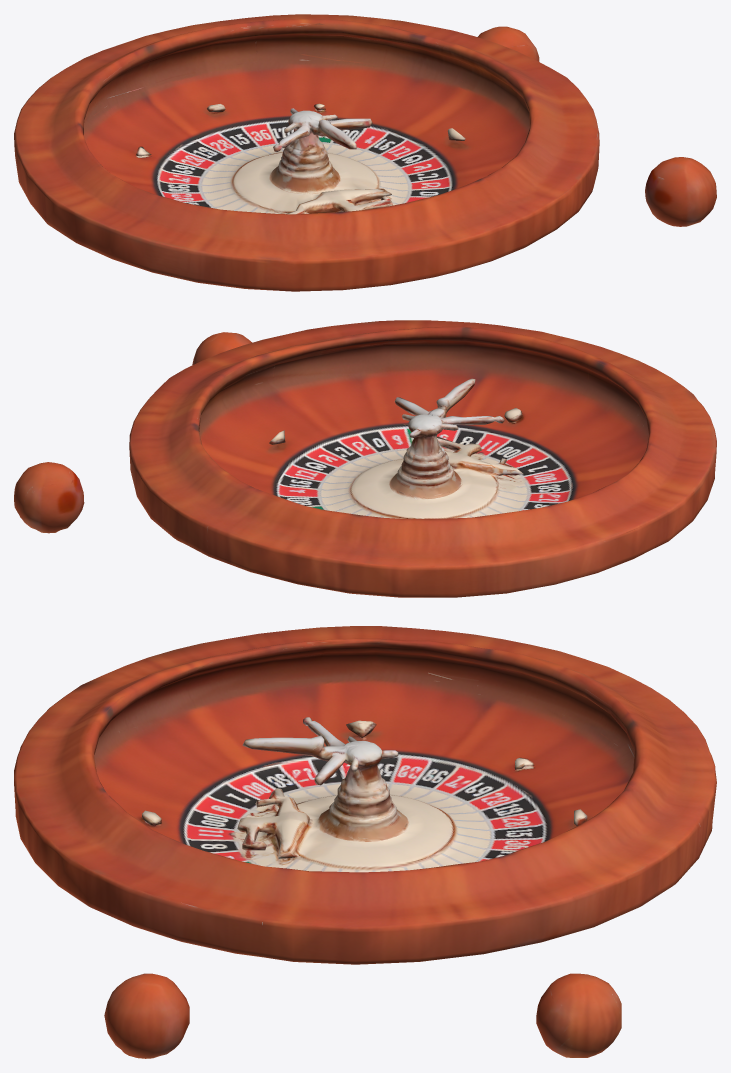
The model's file is Roulette_Wheel_4InchesTall_0215214811_texture.glb.
The picture shows the model from 3 angles, top to bottom: view 1: azimuth 30°, elevation 25°; view 2: azimuth 150°, elevation 25°; view 3: azimuth 270°, elevation 25°; orthographic projection. The views are drawn at different scales.
Visible parts, largest first — view 1: Mesh_0.001; view 2: Mesh_0.001; view 3: Mesh_0.001.
Boxes of the visible parts, box(x1,y1,x2,y2) form: Mesh_0.001: box(14, 14, 716, 291); Mesh_0.001: box(14, 320, 716, 597); Mesh_0.001: box(14, 626, 716, 1058).
Bounding box in the file's own units: 0.4998 × 0.1016 × 0.4392.
Materials: 1 (1 with a texture image).
